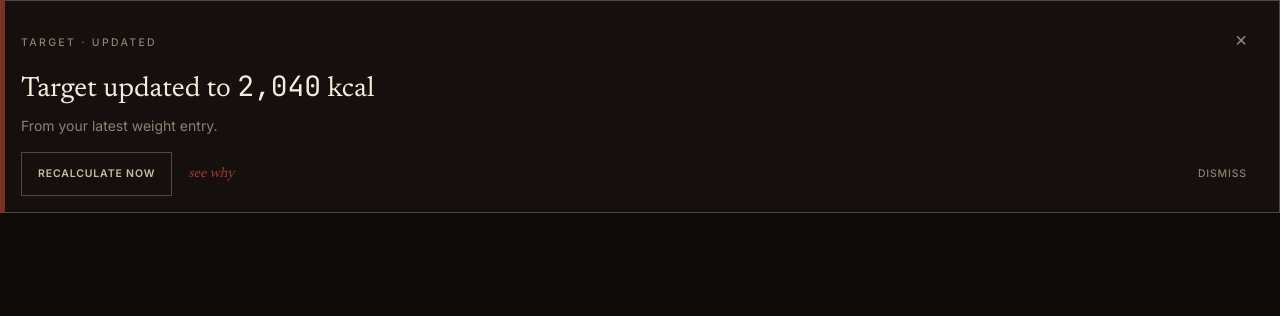
<TargetUpdatedNudgeWrapper /> — C-2 wire contract › Dismiss server failure: card stays visible, no success announcement, visible error surface
Step 1. Click the button with test id "target-updated-nudge-dismiss" → x=1222, y=174, box [1182,152,1263,196]
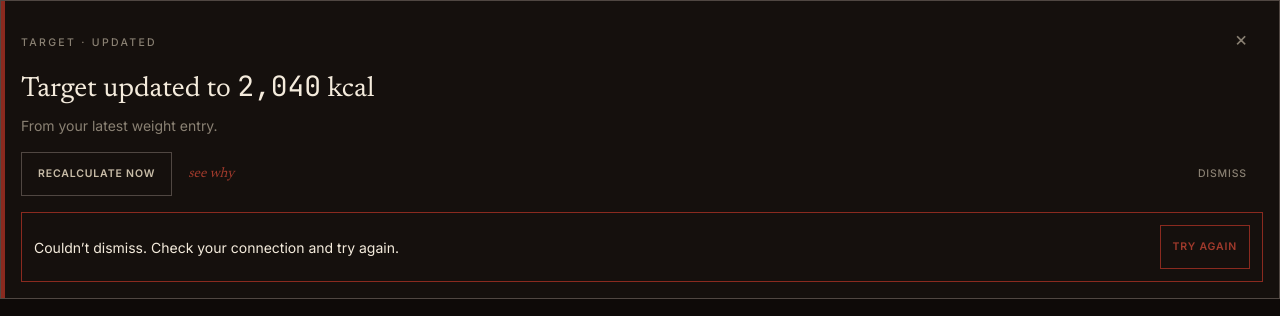
Expected: the message "Couldn’t dismiss. Check your connection and try again. TRY AGAIN" is shown, [21,212,1263,282]
Expected: the button with test id "target-updated-nudge-retry" is shown, [1160,225,1250,269]
